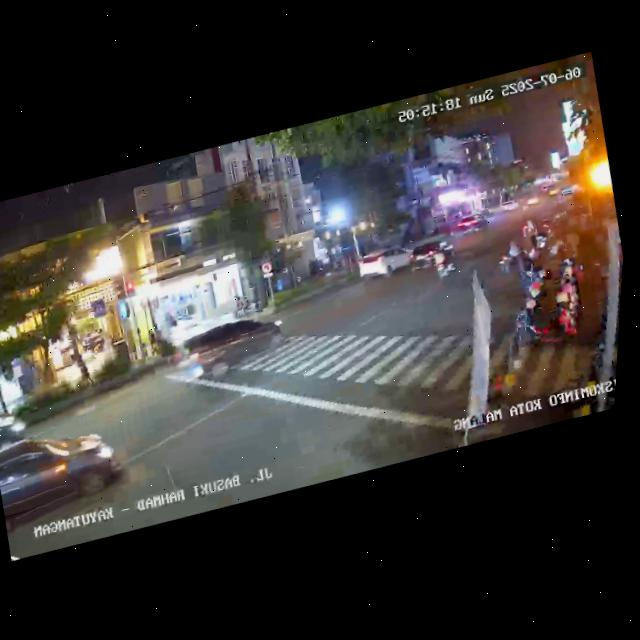car: (0, 414, 133, 543), (168, 306, 289, 387), (356, 240, 416, 284), (406, 232, 458, 275), (453, 211, 491, 240)
motorcycle: (429, 240, 462, 286), (493, 237, 526, 277)
person: (516, 248, 541, 295), (74, 348, 94, 385)
